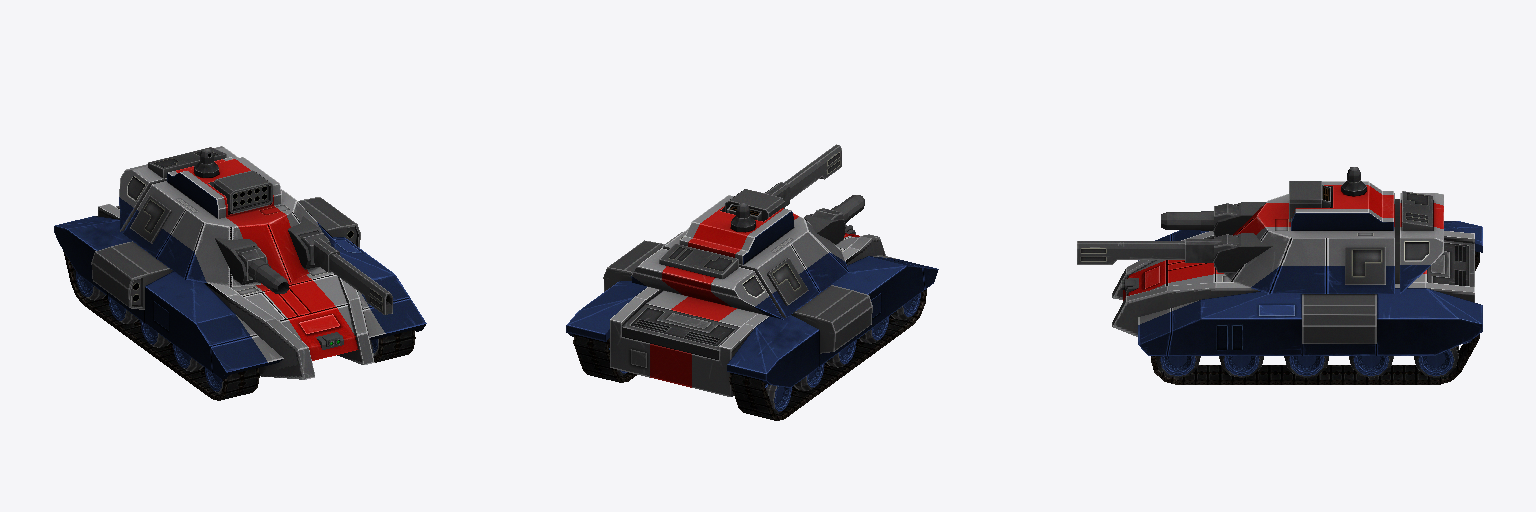
The picture shows the model from 3 angles: view 1: azimuth 30°, elevation 25°; view 2: azimuth 150°, elevation 25°; view 3: azimuth 270°, elevation 25°; orthographic projection.
Parts seen in each view (by area): view 1: U3DMesh, turret, trackl, launcher_3, barrel_2, trackr, mantlet_2, mantlet_1, barrel_1; view 2: U3DMesh, turret, trackl, trackr, barrel_2, launcher_3; view 3: U3DMesh, turret, trackr, barrel_2, launcher_3, mantlet_2, wheel11, wheel10, wheel9, wheel8, wheel7, barrel_1 (+1 smaller).
Boxes of the visible parts, box(x1,y1,x2,y2) form: U3DMesh: box(54, 197, 426, 379); turret: box(119, 146, 336, 286); trackl: box(63, 251, 259, 400); launcher_3: box(213, 170, 272, 213); barrel_2: box(330, 253, 392, 314); trackr: box(374, 330, 415, 362); mantlet_2: box(298, 231, 339, 272); mantlet_1: box(235, 246, 270, 282); barrel_1: box(255, 265, 288, 293); U3DMesh: box(566, 224, 938, 396); turret: box(631, 195, 848, 319); trackl: box(729, 289, 926, 420); trackr: box(573, 335, 636, 382); barrel_2: box(784, 144, 841, 199); launcher_3: box(725, 189, 784, 221); U3DMesh: box(1112, 221, 1482, 355); turret: box(1213, 180, 1443, 293); trackr: box(1151, 334, 1479, 384); barrel_2: box(1077, 241, 1184, 264); launcher_3: box(1289, 181, 1330, 221); mantlet_2: box(1185, 234, 1238, 266); wheel11: box(1414, 346, 1458, 377); wheel10: box(1349, 356, 1393, 377); wheel9: box(1284, 356, 1328, 377); wheel8: box(1219, 356, 1263, 377); wheel7: box(1156, 356, 1200, 377); barrel_1: box(1161, 212, 1200, 229).
Size of the model in its own units: 45.03 by 30.8 by 68.23.
Materials: 1 (1 with a texture image).